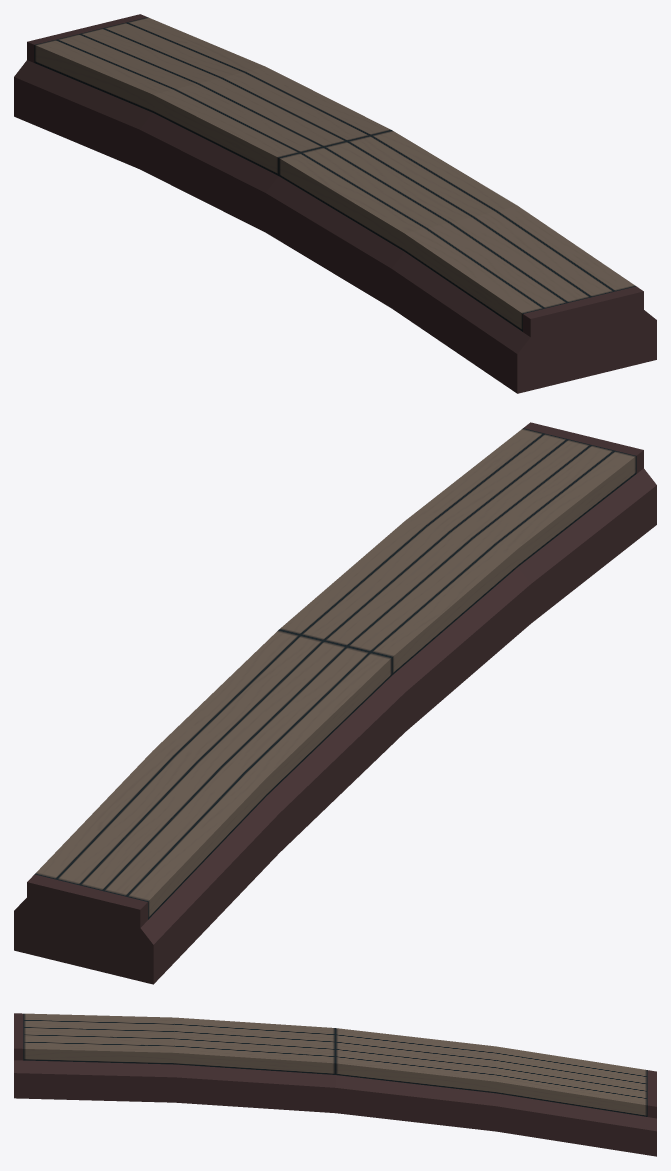
File: SW_ENV_EL_TrackBase_Walkway_Central_Riser_B.fbx
3 views of the same model, one above another, from view 1: azimuth 30°, elevation 25°; view 2: azimuth 150°, elevation 25°; view 3: azimuth 270°, elevation 25° (orthographic). The views are drawn at different scales.
Parts seen in each view (by area): view 1: SW_ENV_EL_TrackBase_Walkway_Central_Riser_B; view 2: SW_ENV_EL_TrackBase_Walkway_Central_Riser_B; view 3: SW_ENV_EL_TrackBase_Walkway_Central_Riser_B.
Part boxes in pixels (x1,y1,x2,y2): SW_ENV_EL_TrackBase_Walkway_Central_Riser_B: [14, 14, 656, 393]; SW_ENV_EL_TrackBase_Walkway_Central_Riser_B: [14, 422, 656, 984]; SW_ENV_EL_TrackBase_Walkway_Central_Riser_B: [14, 1013, 656, 1156].
Bounding box in the file's own units: 1.6 × 1.78 × 10.
